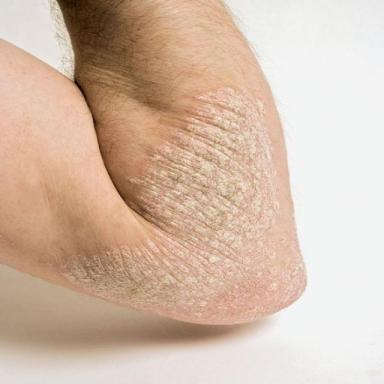Psoriasis: (63, 87, 305, 323)
